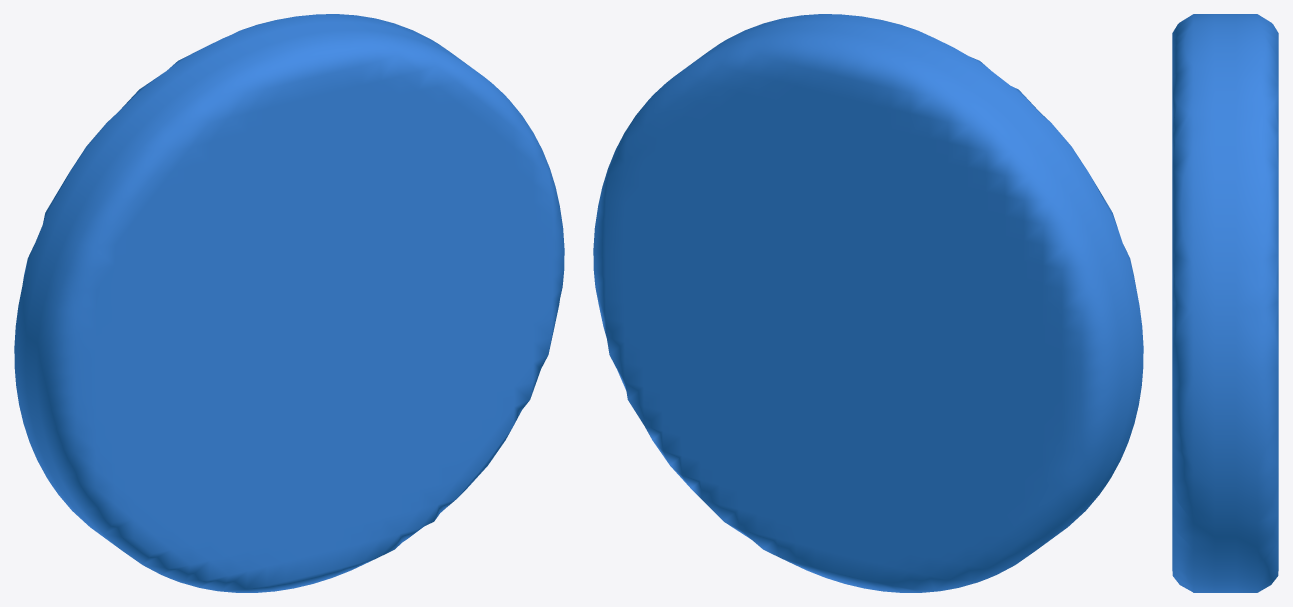
The model's file is 021_spatial_camera_lens_element.glb.
The picture shows the model from 3 angles, left to right: view 1: azimuth 30°, elevation 25°; view 2: azimuth 150°, elevation 25°; view 3: azimuth 270°, elevation 25°; orthographic projection. The views are drawn at different scales.
Parts seen in each view (by area): view 1: 021 | Spatial Camera Lens Element; view 2: 021 | Spatial Camera Lens Element; view 3: 021 | Spatial Camera Lens Element.
Boxes of the visible parts, left/top/right/bottom form: 021 | Spatial Camera Lens Element: left=14, top=14, right=564, bottom=592; 021 | Spatial Camera Lens Element: left=593, top=14, right=1143, bottom=592; 021 | Spatial Camera Lens Element: left=1172, top=14, right=1278, bottom=592.
Size of the model in its own units: 0.00272 by 0.00272 by 0.0005.
